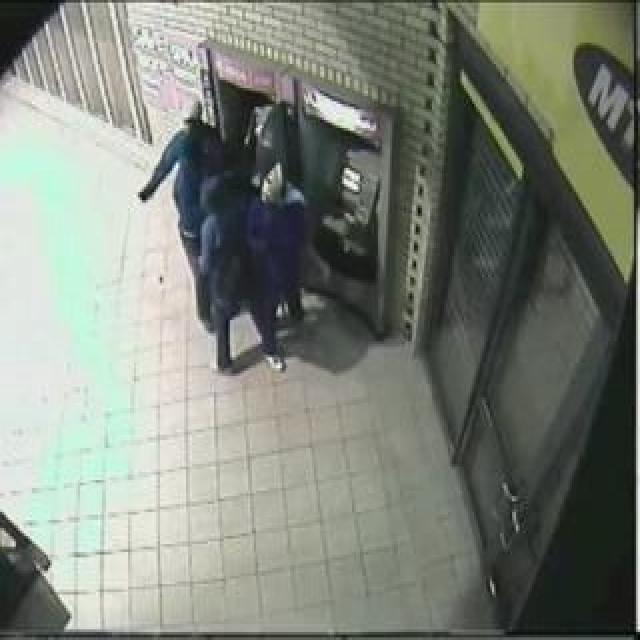thief: (154, 111, 338, 308)
